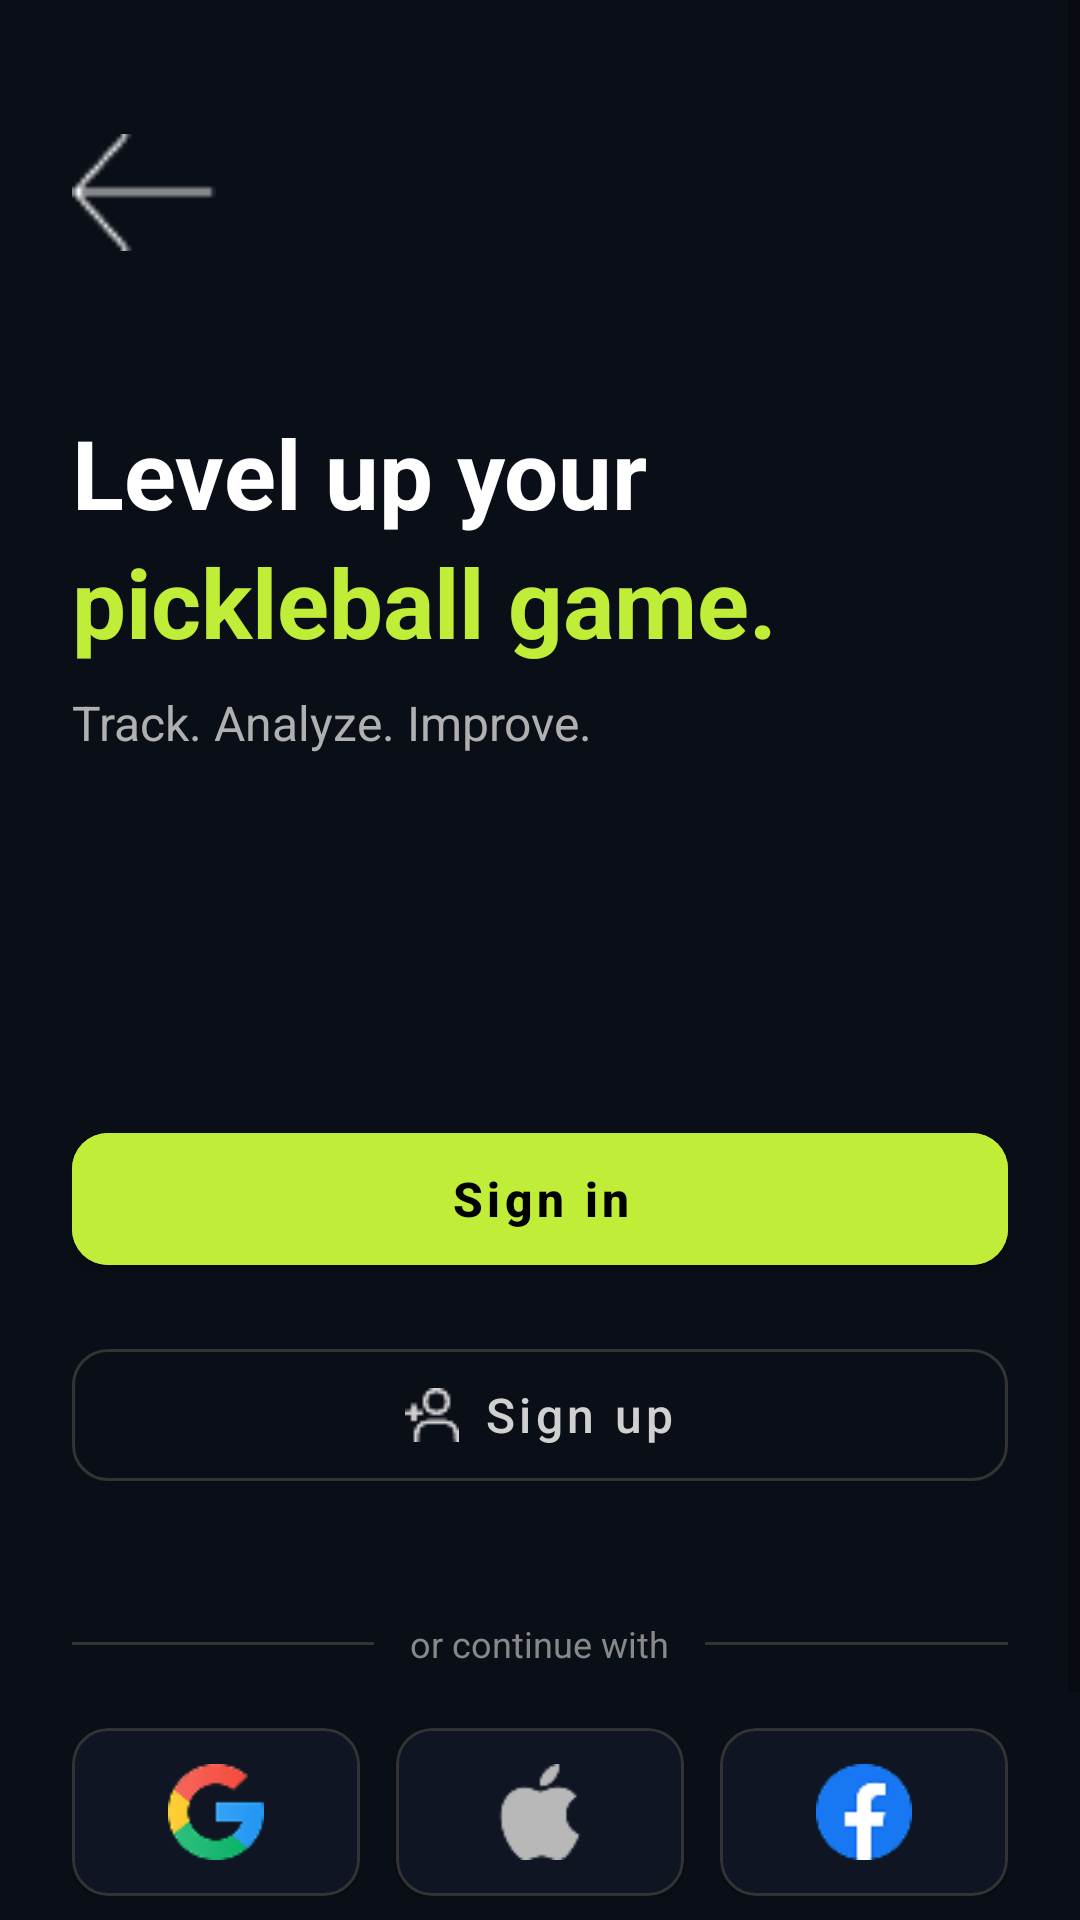

Locate icon controls on the screen. Image size 1080px×1920px, boxes as BBox(x1, y1, x2, y2).
Back: BBox(72, 134, 213, 251)
